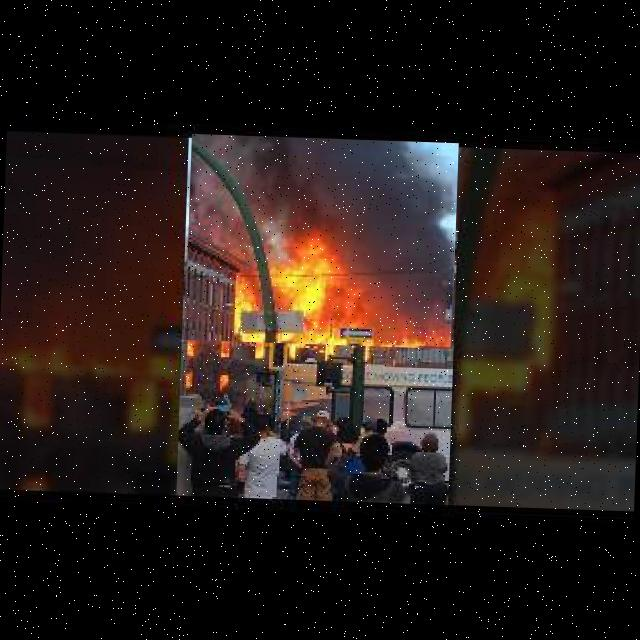fire: (184, 134, 458, 348)
